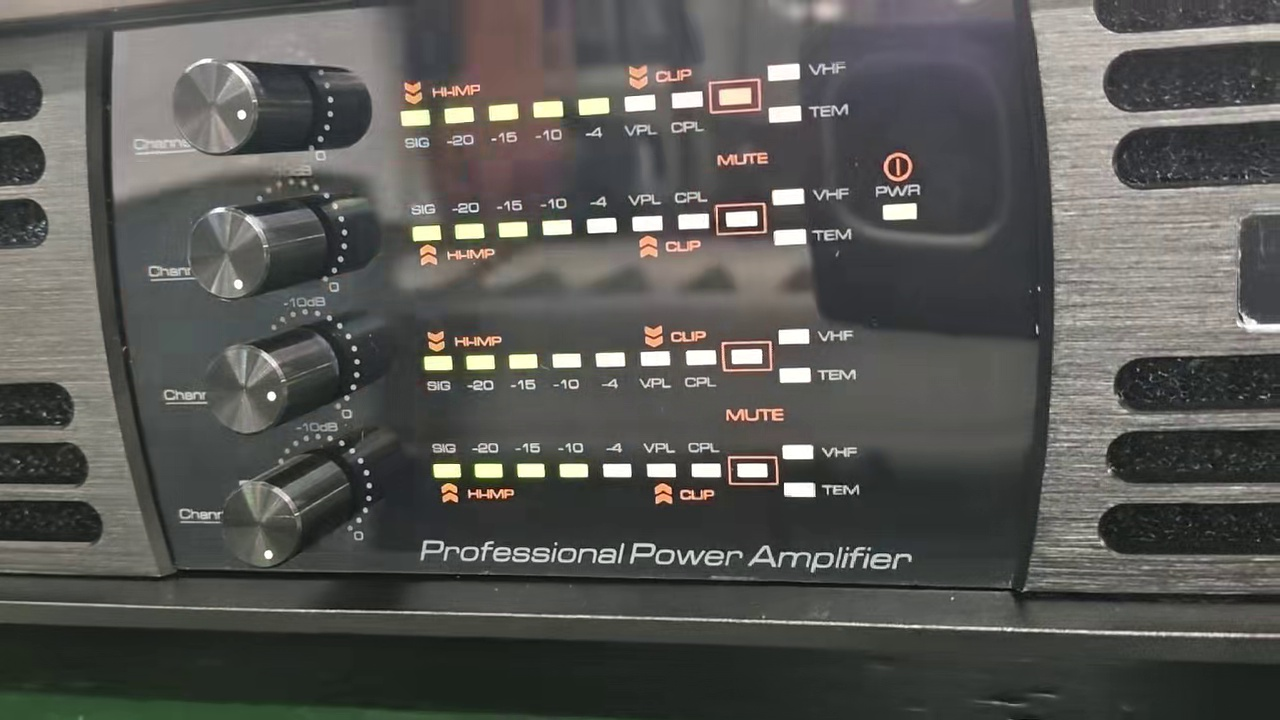FP_CPL: (665, 88, 710, 143), (682, 346, 721, 394), (672, 186, 710, 235), (686, 439, 725, 484)
FP_PWR: (870, 183, 927, 228)
FP_PWR_area: (870, 146, 931, 232)
FP_SIG_area: (387, 50, 858, 151), (410, 180, 858, 270), (426, 432, 867, 514), (420, 325, 865, 396)
FP_VPL: (621, 90, 661, 142), (625, 188, 665, 236), (636, 347, 675, 394), (640, 437, 681, 479)
